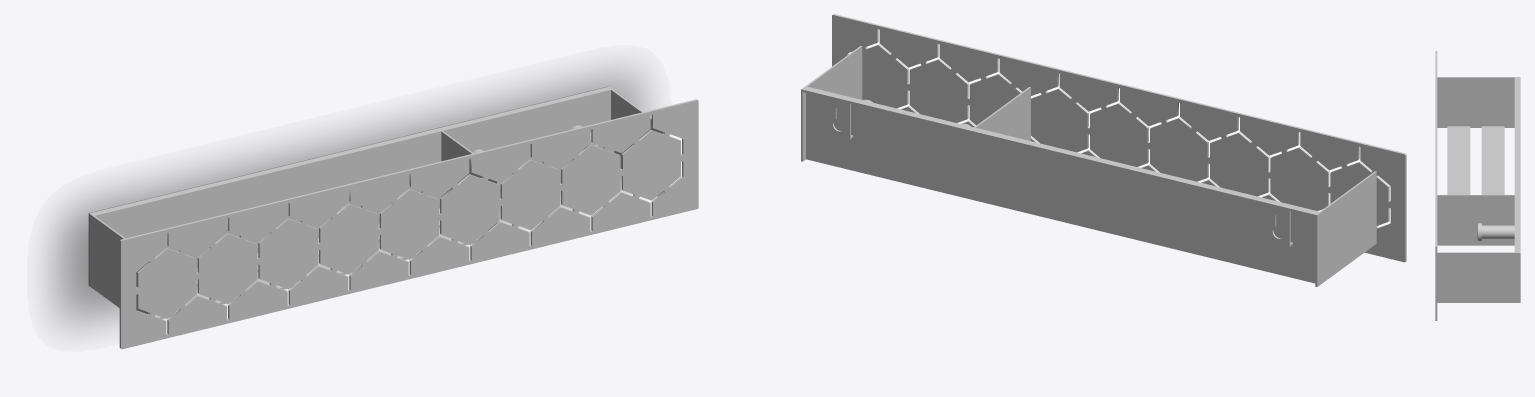
The model's file is bee-patron.4a17762fbe.ar.glb.
The picture shows the model from 3 angles, left to right: view 1: azimuth 30°, elevation 25°; view 2: azimuth 150°, elevation 25°; view 3: azimuth 270°, elevation 25°; orthographic projection. The views are drawn at different scales.
Visible parts, largest first — view 1: NAUO1, object 2; view 2: NAUO1; view 3: NAUO1.
Part boxes in pixels (x1,y1,x2,y2): NAUO1: (88, 86, 698, 349); object 2: (49, 70, 648, 326); NAUO1: (801, 14, 1406, 286); NAUO1: (1435, 51, 1520, 320).
Bounding box in the file's own units: 0.58 × 0.17 × 0.092.
2 materials, 1 textured.
